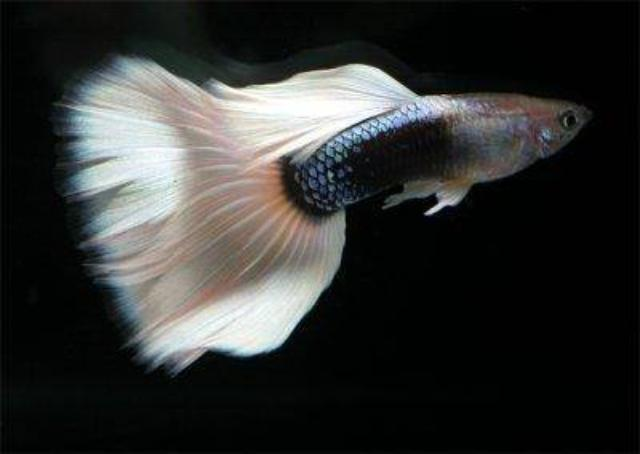Mulut: (558, 81, 612, 153)
Sirip Anal: (355, 170, 435, 220)
Sirip Dada: (455, 107, 539, 177)
Sirip Ekor: (45, 37, 313, 401)
Sirip Perut: (416, 172, 482, 224)
Sirip Punggung: (204, 55, 433, 165)
